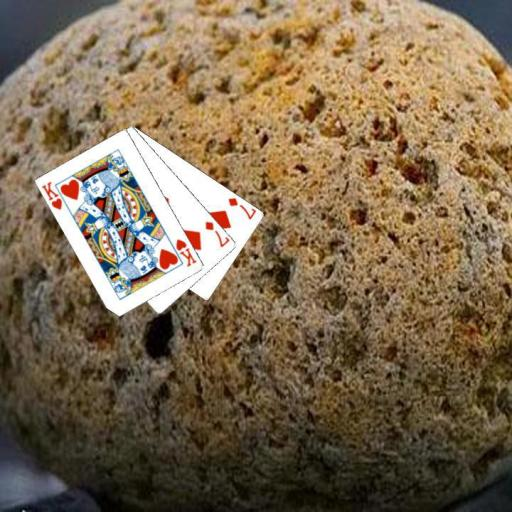7D: (202, 217, 230, 249), (226, 194, 258, 221)
KH: (39, 178, 64, 212), (173, 235, 198, 268)
